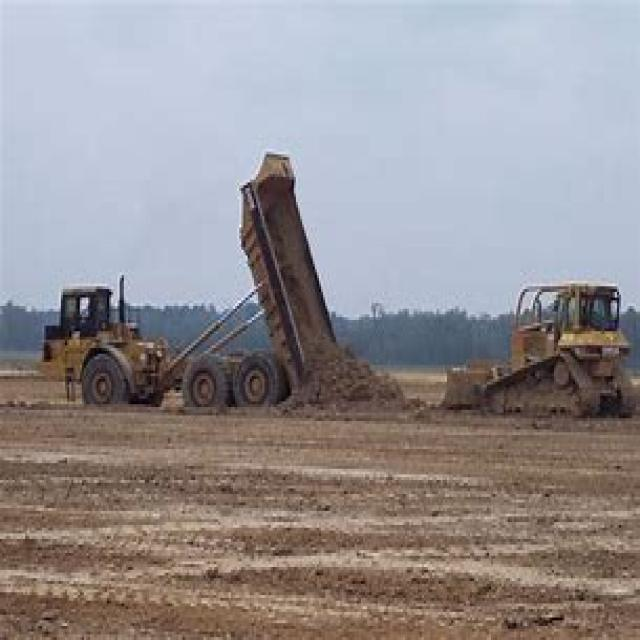buldozerpayloadergrader: (426, 253, 638, 435)
dump_truck: (40, 140, 350, 418)
